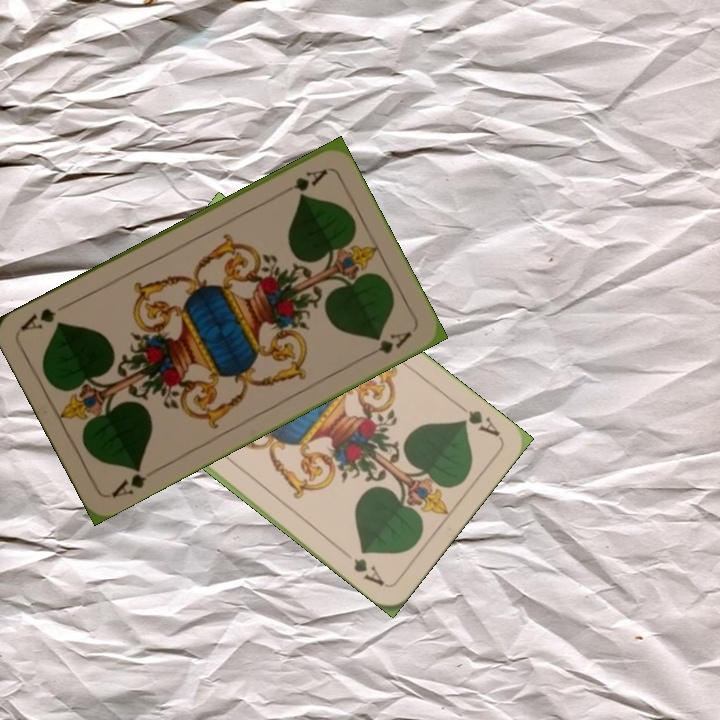GA: (454, 398, 503, 439), (275, 164, 330, 199), (107, 462, 149, 500)
